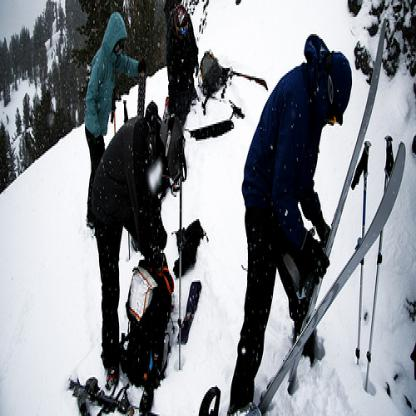backpack: (120, 252, 175, 391), (172, 5, 198, 77)
